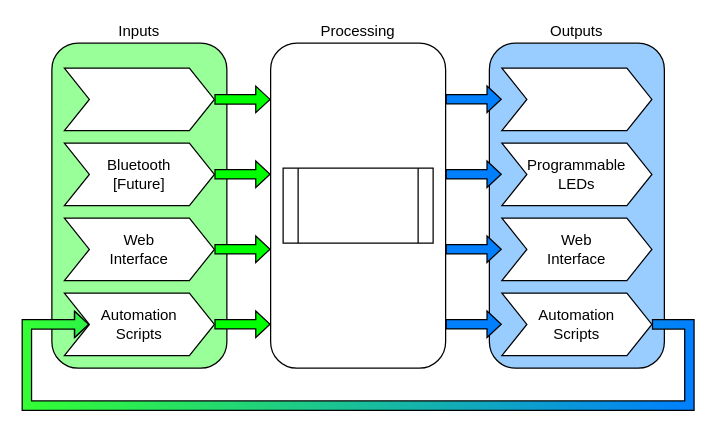
Image size: 716x433. Some labels were removed from this diagram. Each missing label, with the centre of its shape:
Pololu Maestros: (576,99)
Receiver SBUS: (138,99)
Teensy Core: (357,205)
